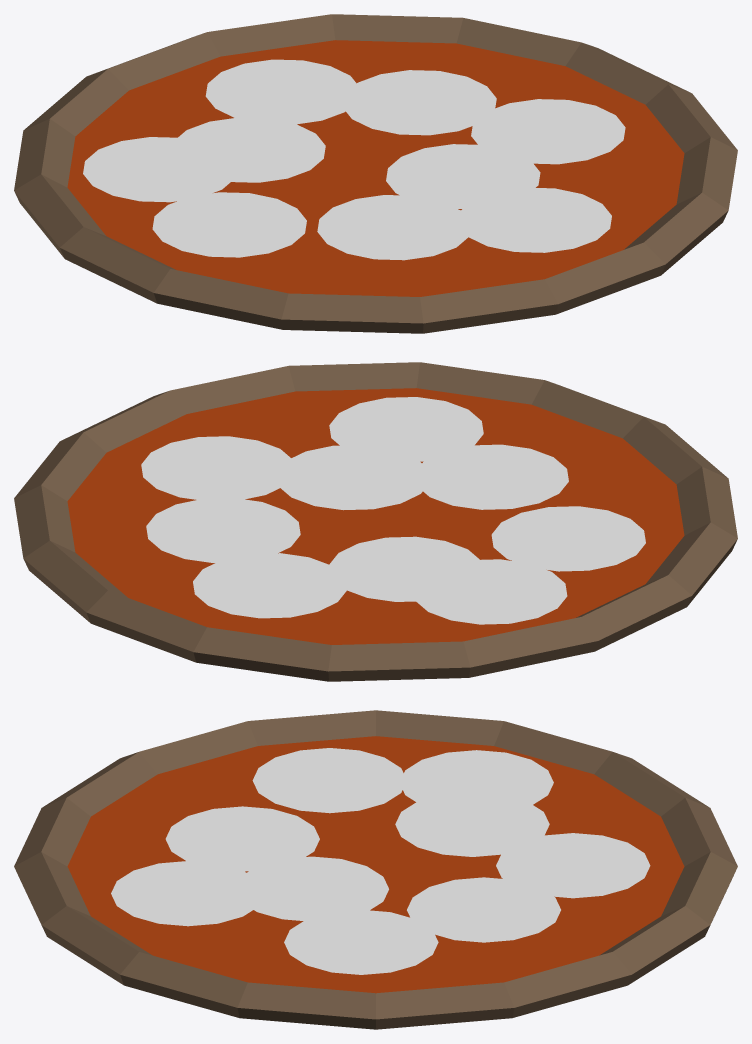
The model's file is pizza.glb.
The picture shows the model from 3 angles, top to bottom: view 1: azimuth 30°, elevation 25°; view 2: azimuth 150°, elevation 25°; view 3: azimuth 270°, elevation 25°; orthographic projection.
Parts seen in each view (by area): view 1: Pizza; view 2: Pizza; view 3: Pizza.
Boxes of the visible parts, x1,y1,x2,y2 form: Pizza: [14, 14, 737, 333]; Pizza: [14, 362, 737, 681]; Pizza: [14, 710, 737, 1029].
Bounding box in the file's own units: 2 × 0.0836 × 2.
